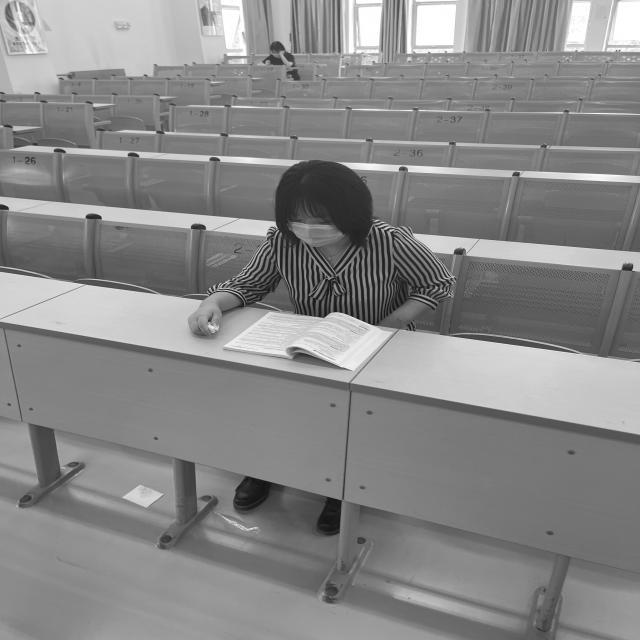study: (187, 161, 454, 350)
